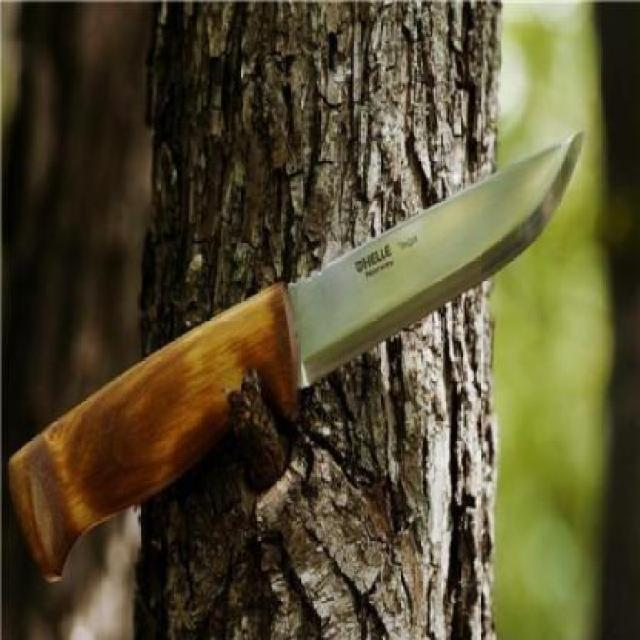knife: (10, 127, 584, 578)
